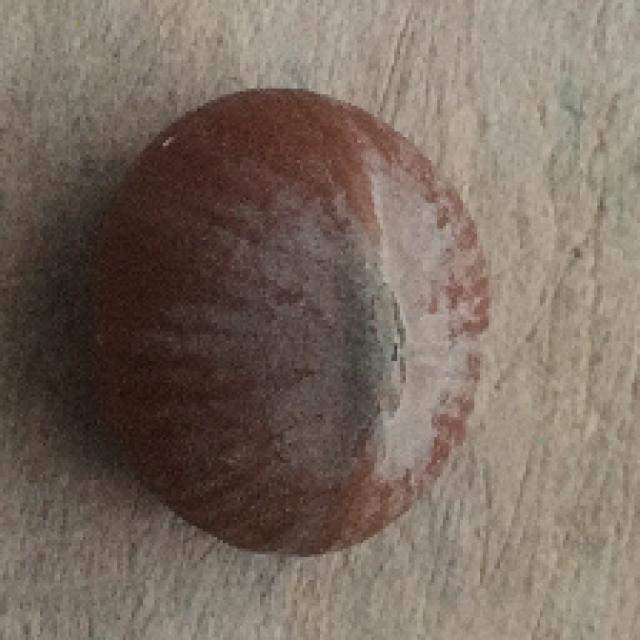qualityHazelnut: (101, 86, 492, 552)
